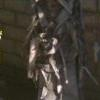Statue: (16, 8, 74, 100)
